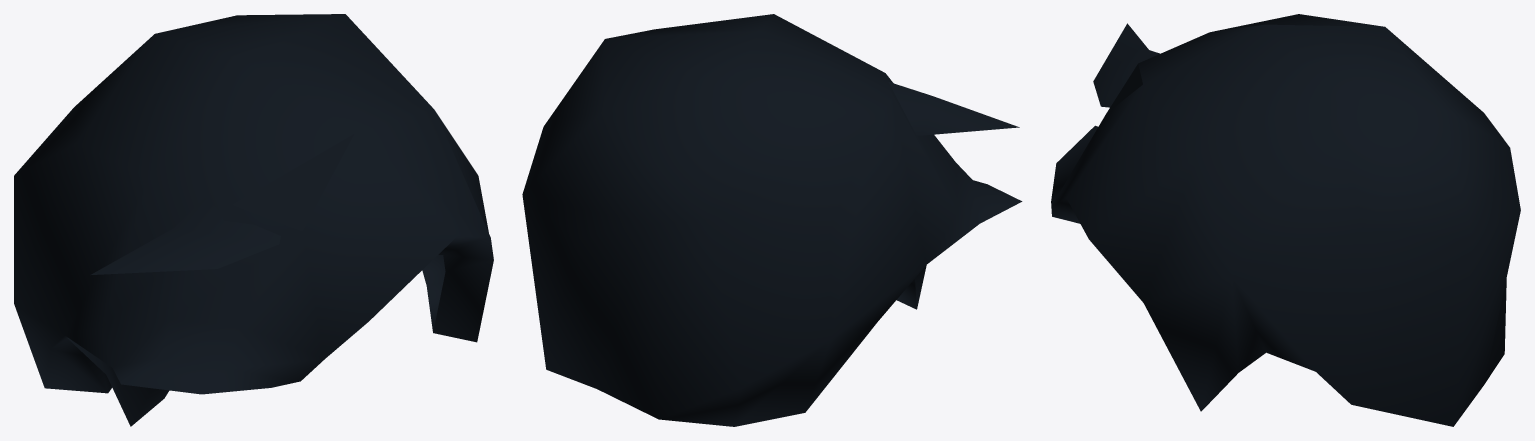
The model's file is HairSpikeyBlack.fbx.
3 renders of one model, left to right at view 1: azimuth 30°, elevation 25°; view 2: azimuth 150°, elevation 25°; view 3: azimuth 270°, elevation 25°, orthographic. The views are drawn at different scales.
Parts seen in each view (by area): view 1: HairSpikeyBlack; view 2: HairSpikeyBlack; view 3: HairSpikeyBlack.
Part boxes in pixels (bbox=[...]): HairSpikeyBlack: bbox=[14, 14, 493, 426]; HairSpikeyBlack: bbox=[522, 14, 1022, 426]; HairSpikeyBlack: bbox=[1051, 14, 1520, 426].
Size of the model in its own units: 61.63 by 46.05 by 57.58.
